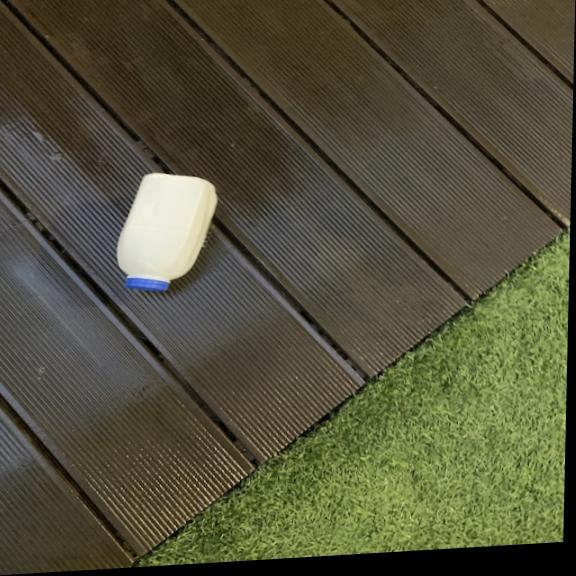Plastik: (115, 169, 222, 297)
